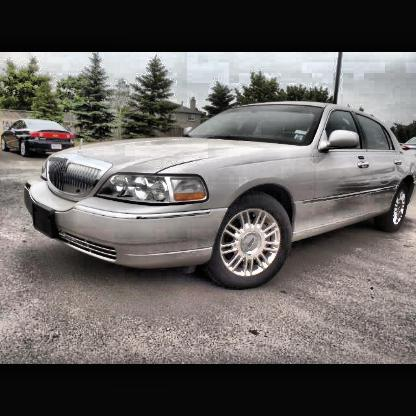Lincoln Town Car Sedan 2011: (24, 101, 416, 292)
